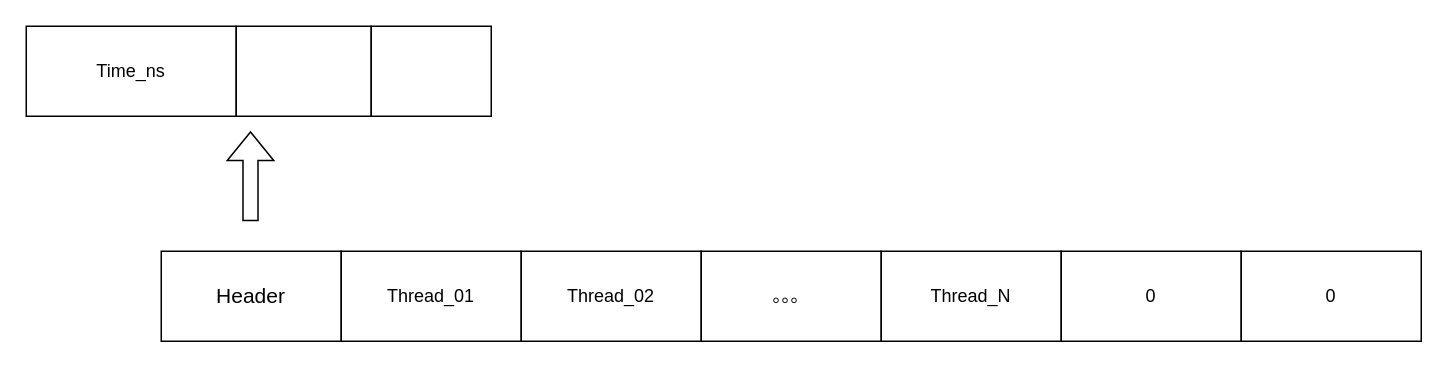
The diagram is 1448 pixels wide and 368 high, and some of its shapes have lost their labels. Here are the shapes that lost their labels. From the top down, the centre of each, then its label:
point (303, 70): Thread Count
point (430, 70): dummy
